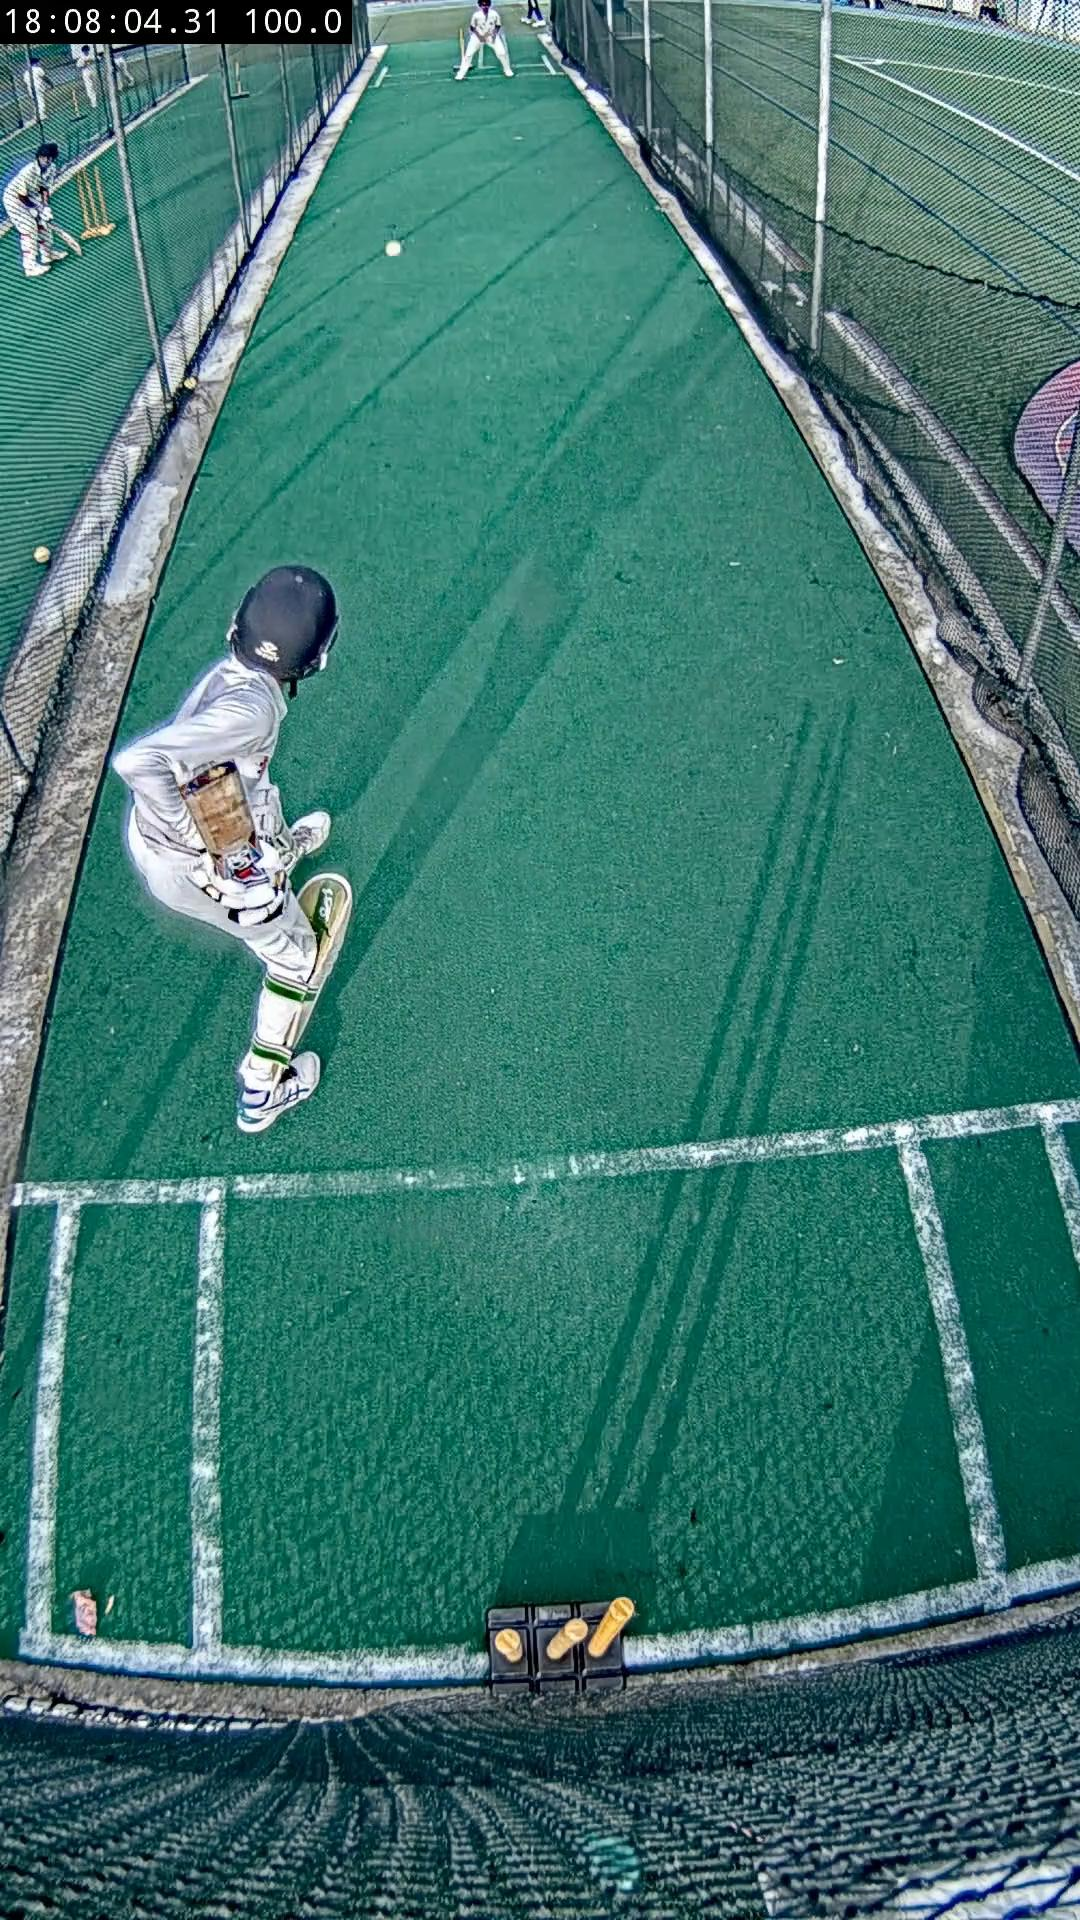ball: (34, 547, 53, 563), (386, 240, 401, 255)
bat: (179, 761, 270, 885)
helmet: (228, 566, 338, 683)
pads: (297, 874, 352, 992)
stumps: (488, 1597, 634, 1695)
